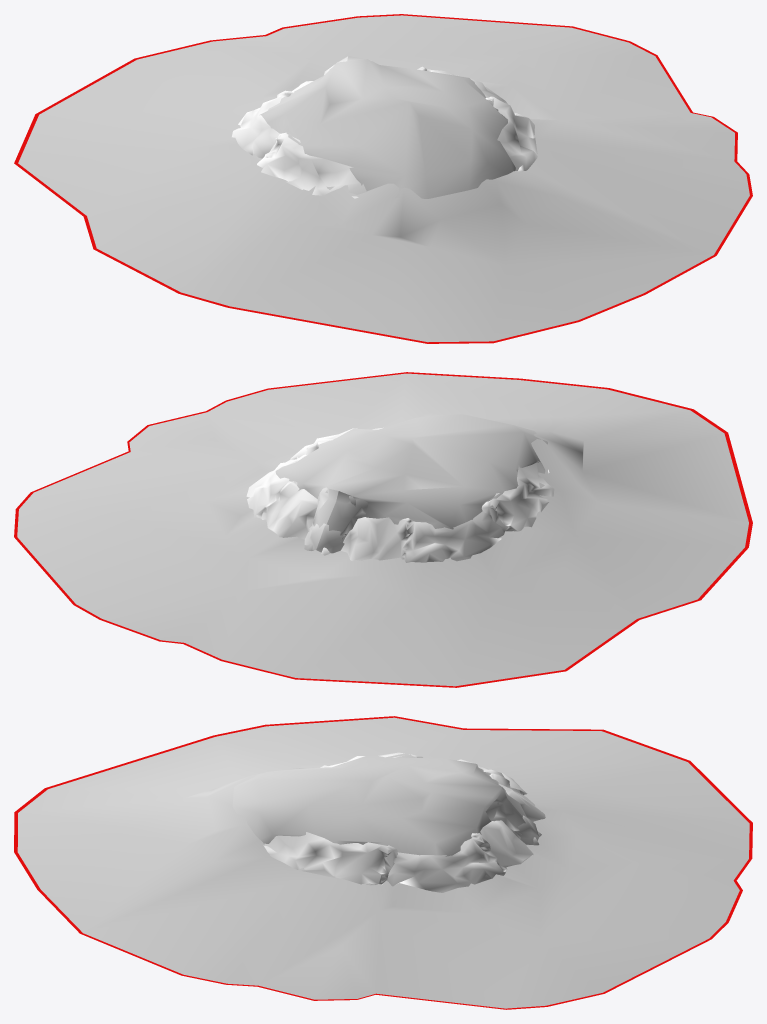
File: climbing_rock_low.fbx
3 views of the same model, one above another, from view 1: azimuth 30°, elevation 25°; view 2: azimuth 150°, elevation 25°; view 3: azimuth 270°, elevation 25° (orthographic). The views are drawn at different scales.
Visible parts, largest first — view 1: Rock_Low; view 2: Rock_Low; view 3: Rock_Low.
Part boxes in pixels (<box>): Rock_Low: <box>14,14,752,343</box>; Rock_Low: <box>14,372,752,687</box>; Rock_Low: <box>14,716,752,1009</box>.
Size of the model in its own units: 218489 by 27586 by 232315.
